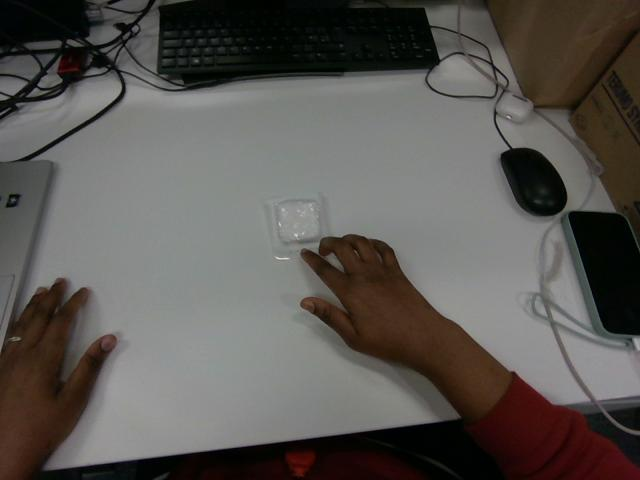gauze: (265, 194, 326, 259)
